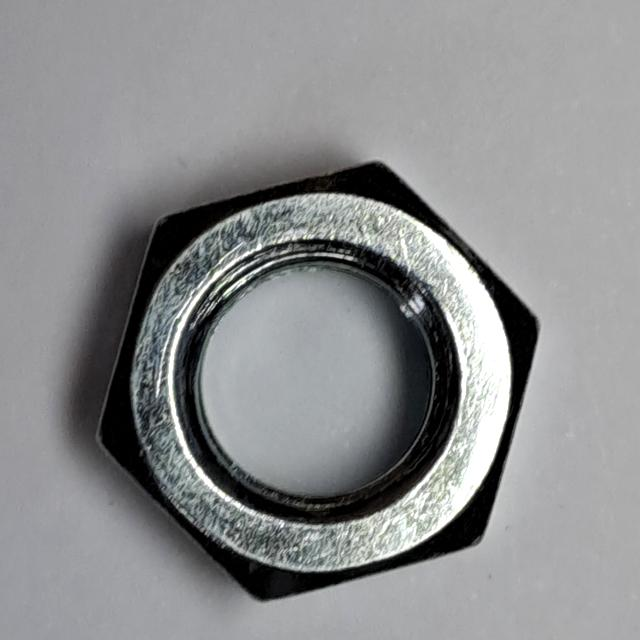Excellent: (83, 147, 555, 617)
